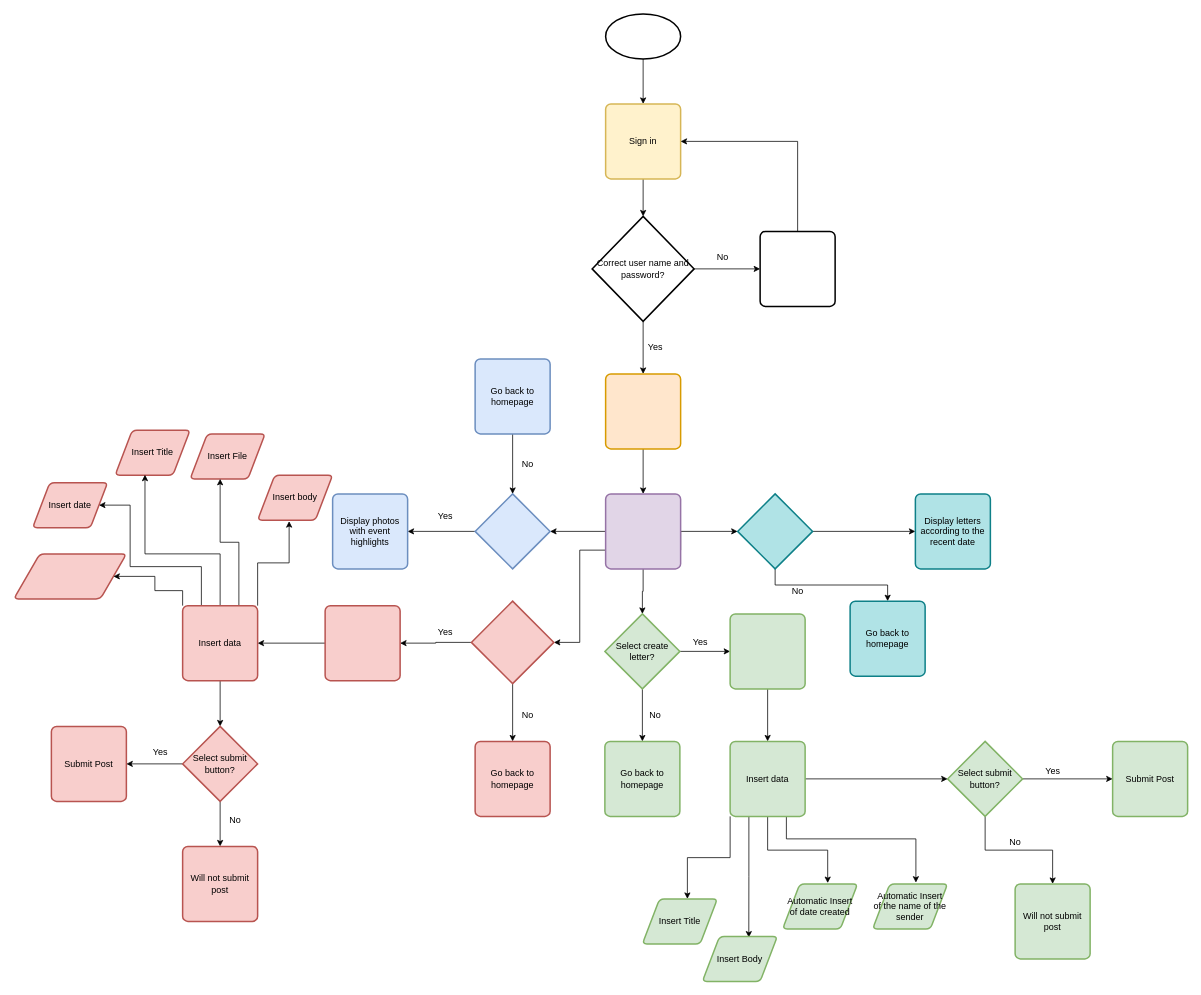
Image size: 1201x995. Some labels were removed from this diagram. The shapes that lost their labels are listed below. From the top down, each one's centre as x and y in pixels, then its label:
the point at 642,36: Start
the point at 797,268: Try-catch: Display warning and retry password or username
the point at 642,411: Proceed to the homepage
the point at 512,531: Select view photos option?
the point at 642,531: Display homepage with options
the point at 774,531: Select view letters?
the point at 70,576: Automatic Insert Name of the person who posted the file
the point at 362,642: Proceed to post page
the point at 512,642: Select post photo with story?
the point at 767,651: Proceed to create letter page
